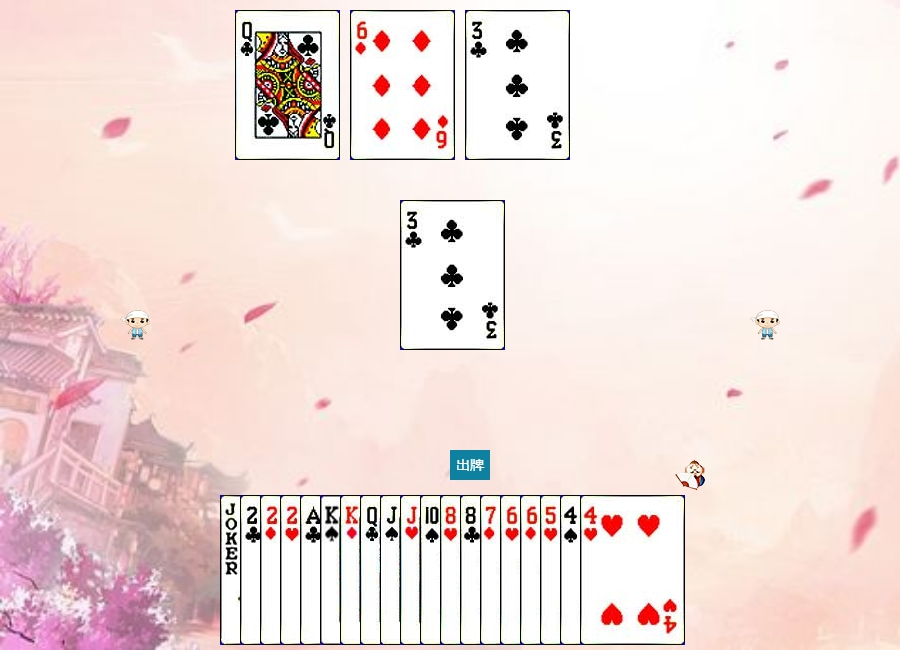10~4: (420, 495, 525, 645)
11~3: (400, 495, 505, 645)
11~4: (380, 495, 485, 645)
12~2: (235, 10, 340, 160), (360, 495, 465, 645)
13~1: (340, 495, 445, 645)
13~4: (320, 495, 425, 645)
14~2: (300, 495, 405, 645)
15~1: (260, 495, 365, 645)
15~2: (240, 495, 345, 645)
15~3: (280, 495, 385, 645)
17~3: (220, 495, 325, 645)
3~2: (465, 10, 570, 160), (400, 200, 505, 350)
4~3: (580, 495, 685, 645)
4~4: (560, 495, 665, 645)
5~3: (540, 495, 645, 645)
6~1: (350, 10, 455, 160), (520, 495, 625, 645)
6~3: (500, 495, 605, 645)
7~1: (480, 495, 585, 645)
8~2: (460, 495, 565, 645)
8~3: (440, 495, 545, 645)
